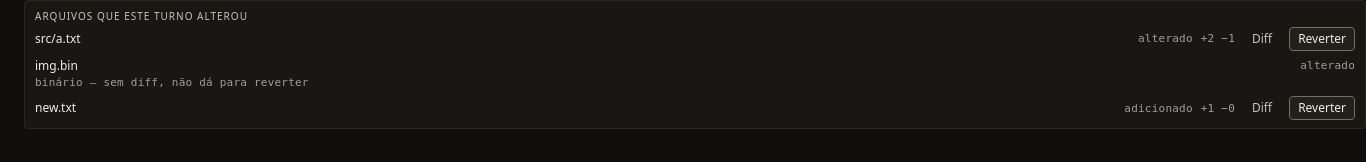
Test: TurnDiffPanel › speaks the chosen language: names, statuses and refusal reasons
expect the text "alterado" is shown 2 times: met, box [1138,31,1193,47]; [1300,58,1355,74]
expect the text "binário — sem diff, não dá para reverter" is shown: met, box [35,76,309,89]
Click the button with aria-label "Reverter new.txt". click: [1322, 108]
box: [1289,96,1355,120]
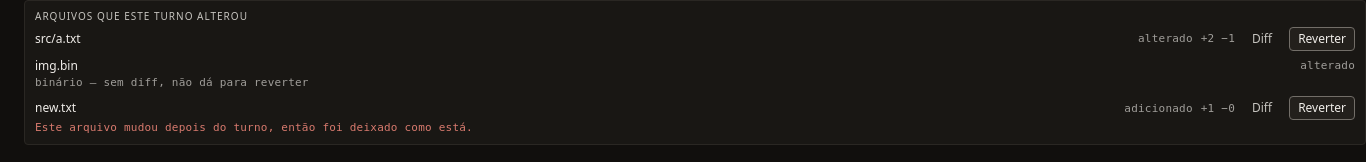
expect the message shows "mudou depois do turno": met, box [35,121,473,134]
